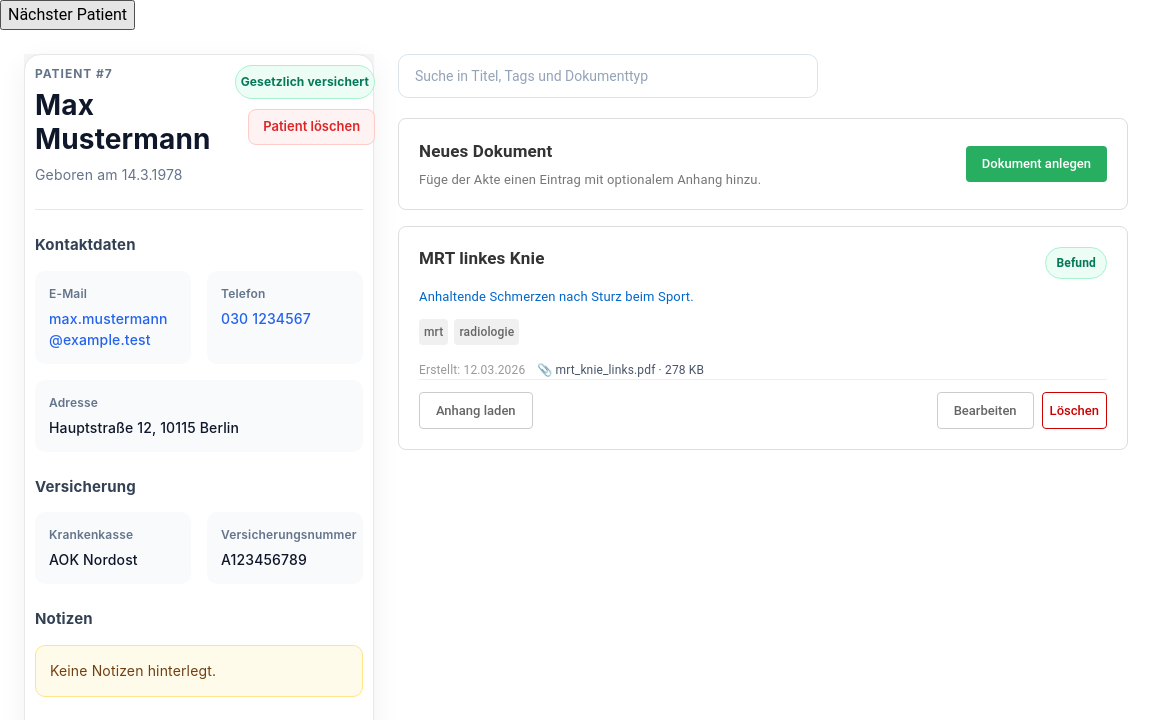
PatientDetailPage › Löschen › zeigt einen Löschfehler und behält das Dokument bei
Expected: the heading "MRT linkes Knie" is shown, [419,247,544,269]
What coordinates should you click on to do the following:
click the button "Löschen"
I would click on:
 (1074, 410)
Its box is [1042,392,1107,429].
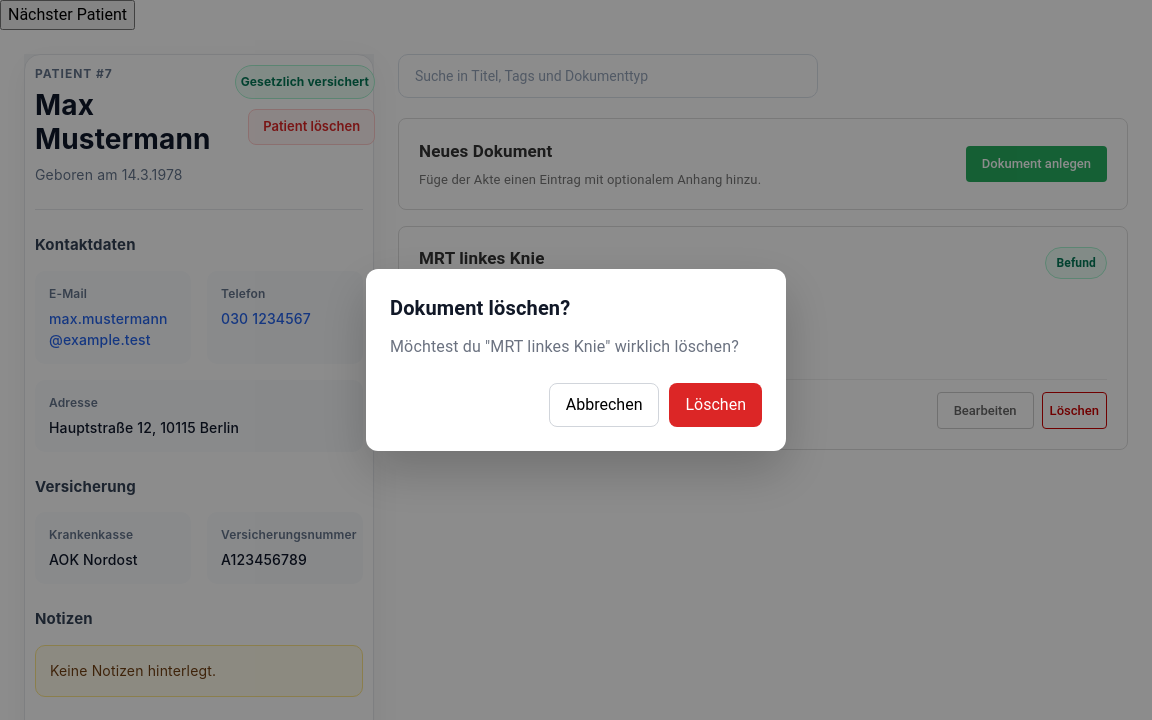
Expected: the heading "Dokument löschen?" is shown, [390,296,570,320]
What coordinates should you click on to do the following:
click the button "Löschen"
I would click on:
 (716, 405)
Its box is [670,383,762,427].
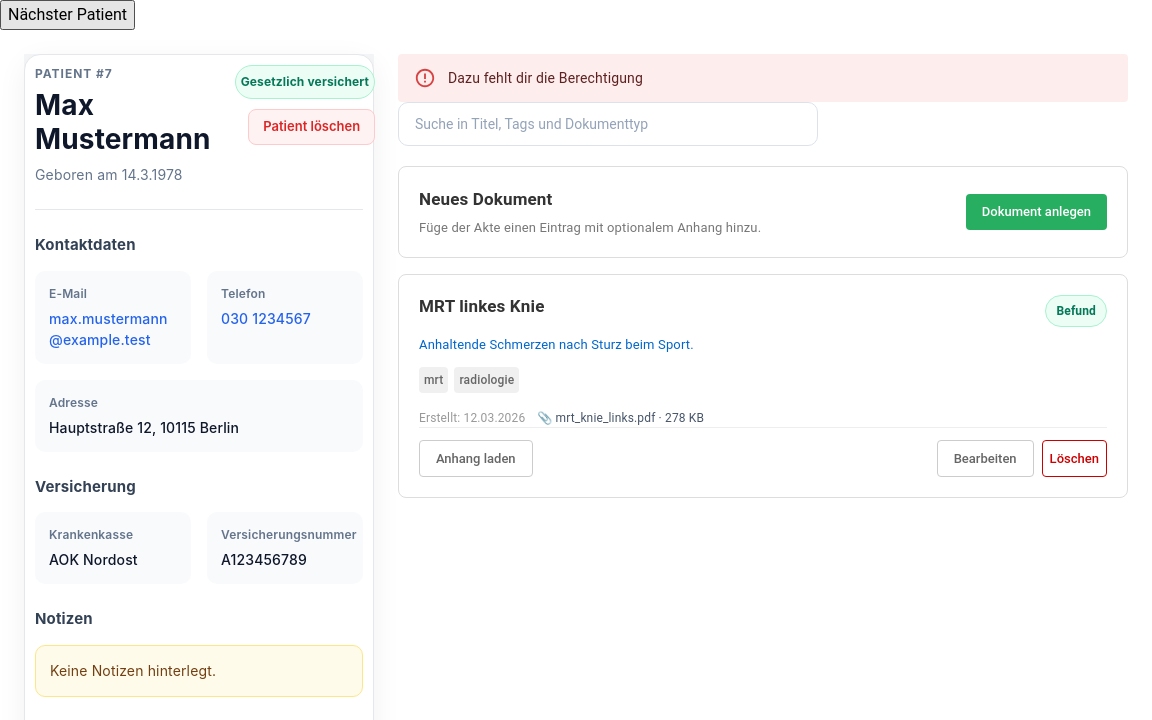
Expected: the heading "MRT linkes Knie" is shown, [419,295,544,317]
Expected: the text "Dazu fehlt dir die Berechtigung" is shown, [448,70,643,86]
